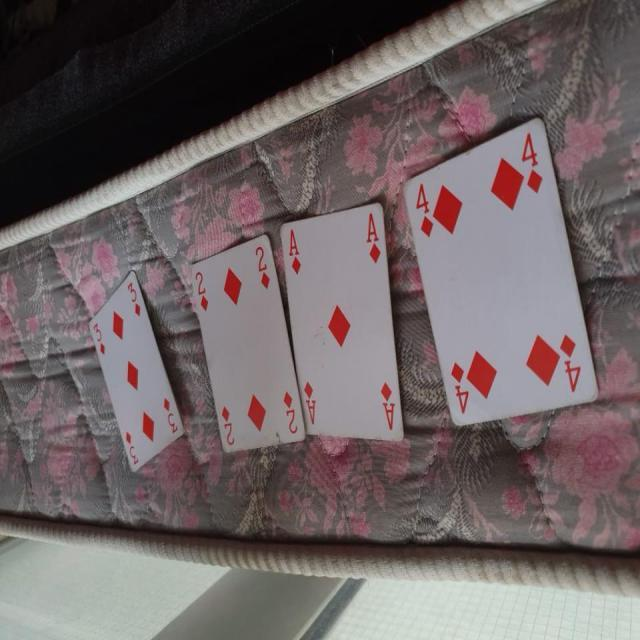2 of diamonds: (189, 232, 311, 452)
3 of diamonds: (86, 266, 188, 478)
4 of diamonds: (401, 112, 602, 426)
ace of diamonds: (276, 194, 414, 446)
